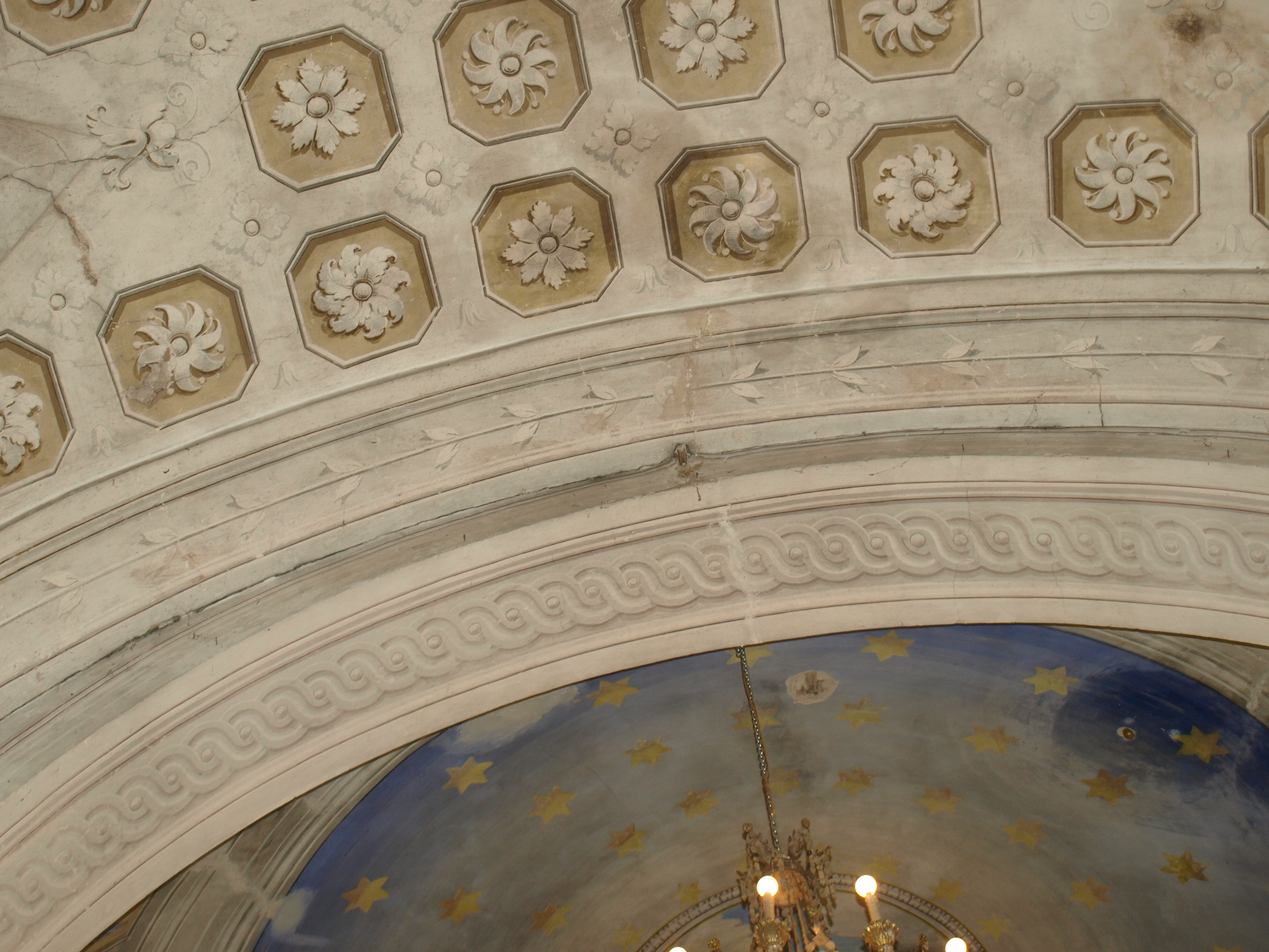Crack: (8, 82, 1085, 710)
